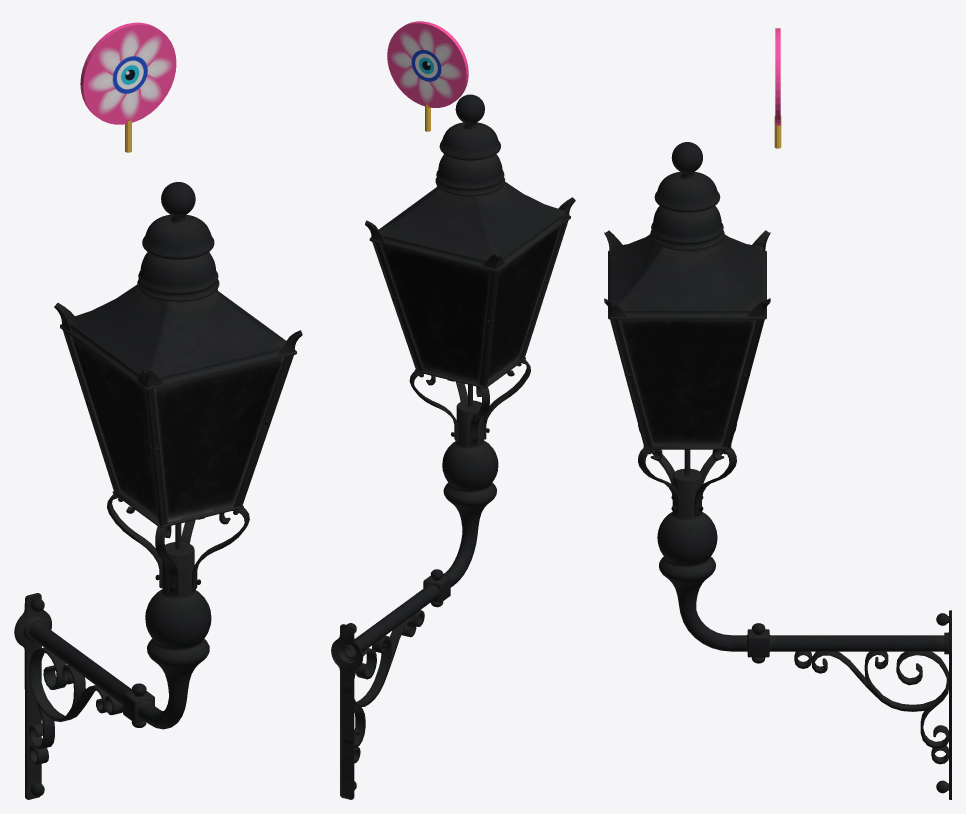
Rendered from nyb_bobbyfischer_lamp.glb.
The picture shows the model from 3 angles, left to right: view 1: azimuth 30°, elevation 25°; view 2: azimuth 150°, elevation 25°; view 3: azimuth 270°, elevation 25°; orthographic projection. The views are drawn at different scales.
Parts seen in each view (by area): view 1: street_lamp_02, add_eyeflower.png, Cylinder; view 2: street_lamp_02, add_eyeflower.png, Cylinder; view 3: street_lamp_02.
Boxes of the visible parts, bbox=[...] form: street_lamp_02: bbox=[14, 182, 302, 799]; add_eyeflower.png: bbox=[86, 29, 173, 120]; Cylinder: bbox=[80, 22, 176, 124]; street_lamp_02: bbox=[331, 94, 575, 799]; add_eyeflower.png: bbox=[389, 26, 463, 104]; Cylinder: bbox=[387, 21, 468, 107]; street_lamp_02: bbox=[604, 142, 951, 799].
Size of the model in its own units: 0.3867 by 1.96 by 0.8069.
Materials: 6 (4 with a texture image).
